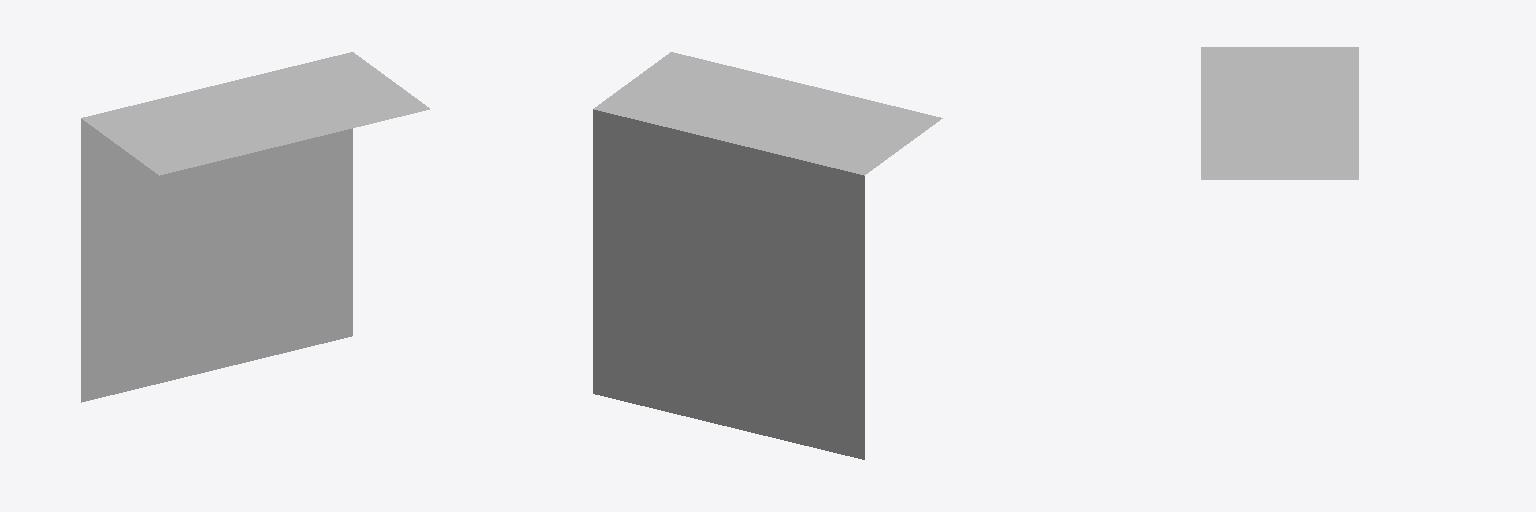
Rendered from cliff.obj.
The picture shows the model from 3 angles: view 1: azimuth 30°, elevation 25°; view 2: azimuth 150°, elevation 25°; view 3: azimuth 270°, elevation 25°; orthographic projection.
Visible parts, largest first — view 1: Cliff; view 2: Cliff; view 3: Cliff.
Boxes of the visible parts, <box> form: Cliff: <box>81,52,429,402</box>; Cliff: <box>593,52,942,459</box>; Cliff: <box>1201,47,1358,179</box>.
Size of the model in its own units: 2 by 2 by 1.